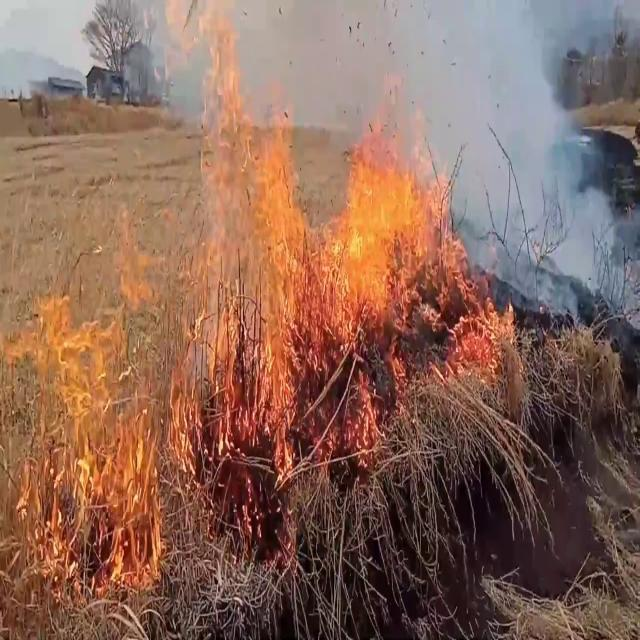Fire: (0, 198, 184, 600), (172, 3, 312, 438), (320, 121, 518, 386)
Smoke: (430, 0, 638, 313)
